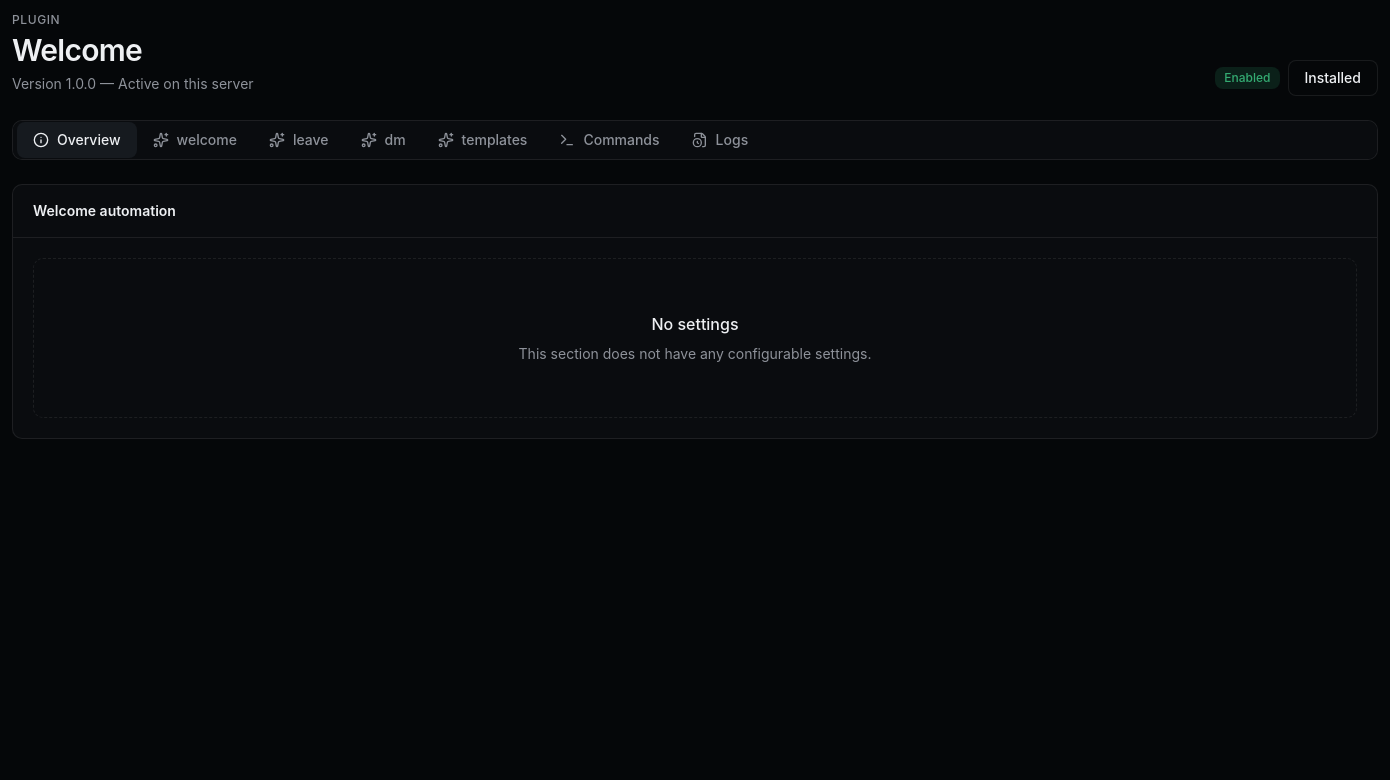
Scenario: PluginDetailPage › renders Welcome tab content from dashboard schema
The width and height of the screenshot is (1390, 780).
Step 1. Click the tab "welcome" → [195, 140], box [136,122,253,158]
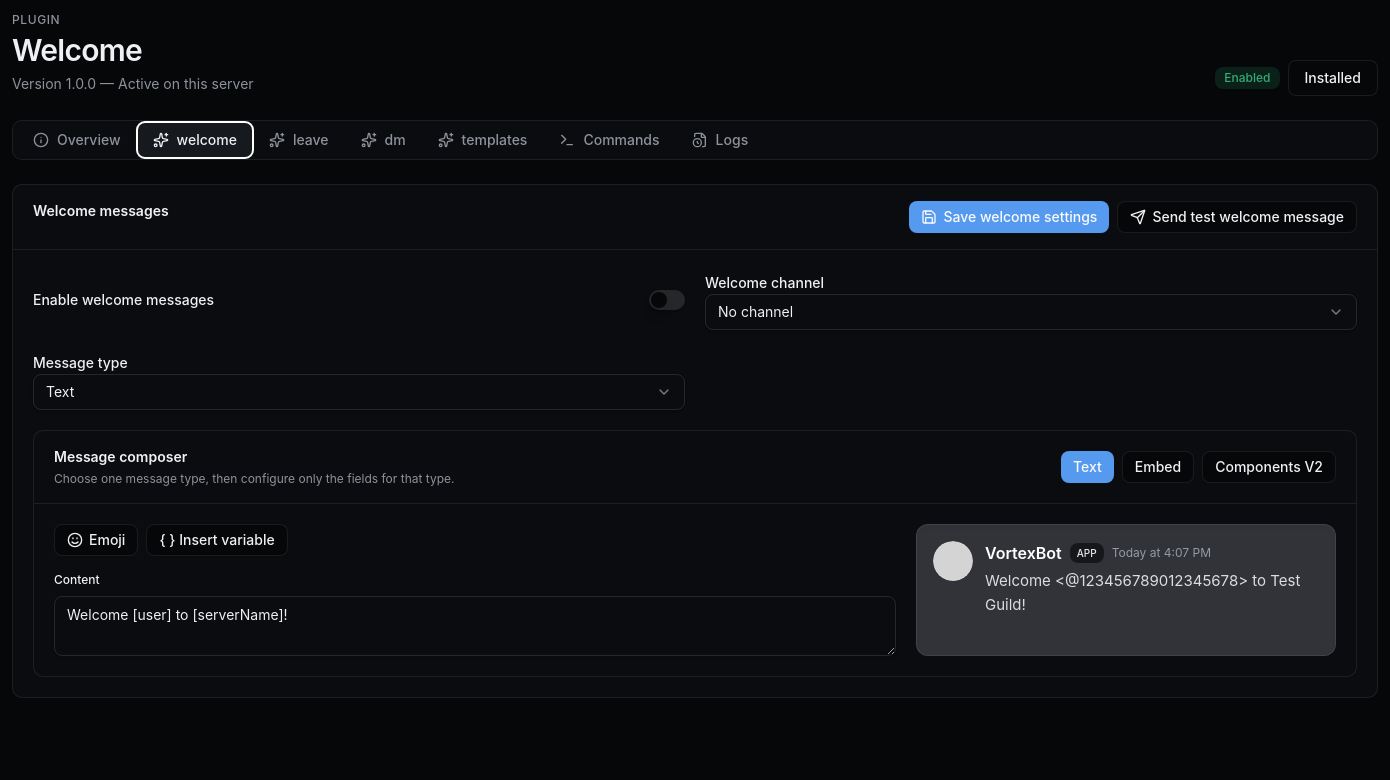
Expected: the text "Welcome messages" is shown, [33,201,169,221]
Expected: the text "Enable welcome messages" is shown, [33,290,214,310]
Expected: the text "Message composer" is shown, [54,448,187,465]
